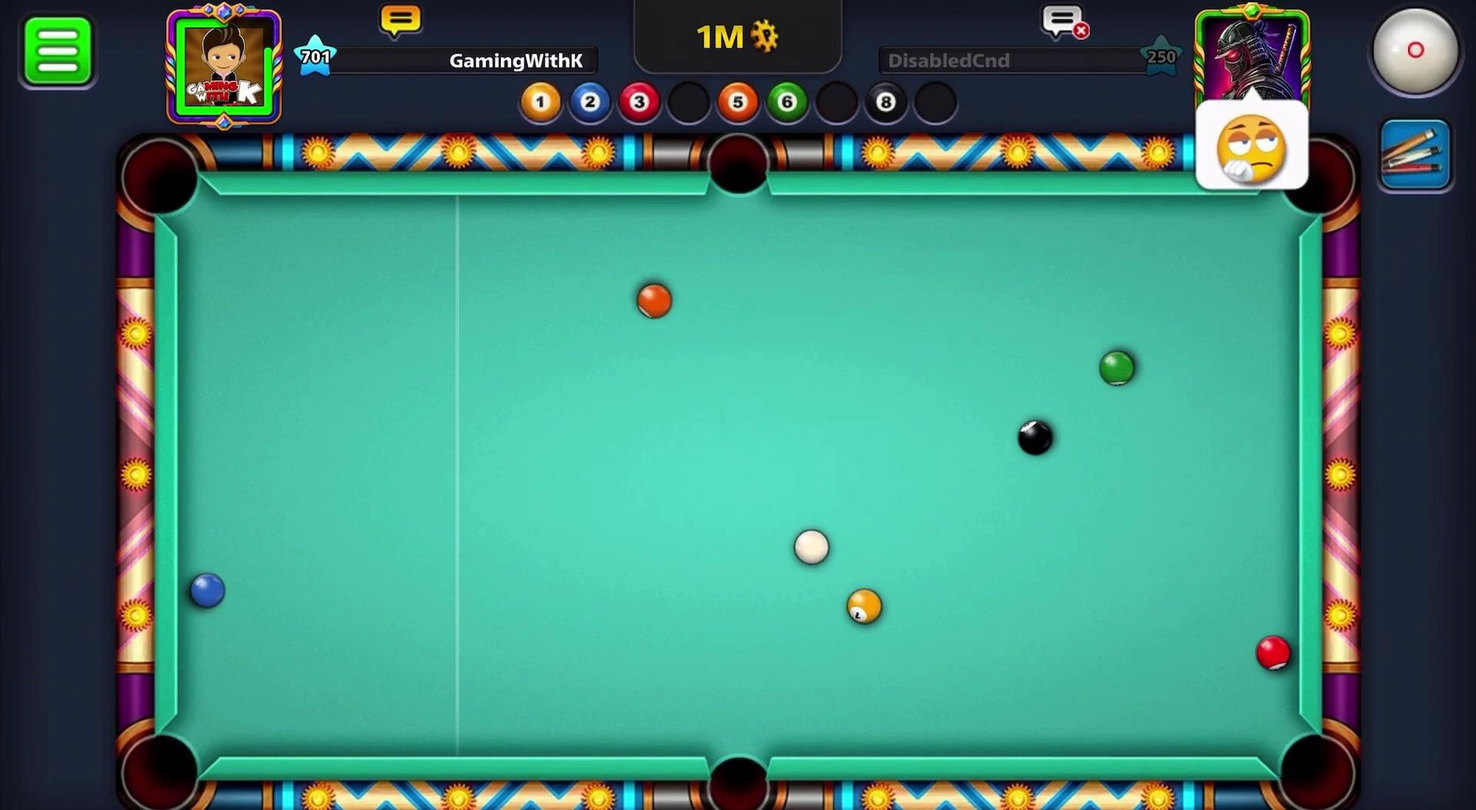Ball: (1009, 413, 1062, 462), (629, 277, 678, 326), (1098, 342, 1141, 393), (183, 567, 229, 614), (842, 585, 884, 631), (1254, 632, 1294, 672)
Hole: (108, 129, 212, 229), (1265, 713, 1364, 809), (110, 716, 212, 809), (1281, 129, 1365, 231), (694, 125, 784, 209), (684, 741, 785, 809)
Play_Area: (178, 194, 1299, 761)
Spin: (1357, 0, 1474, 111)
White: (789, 525, 835, 567)
